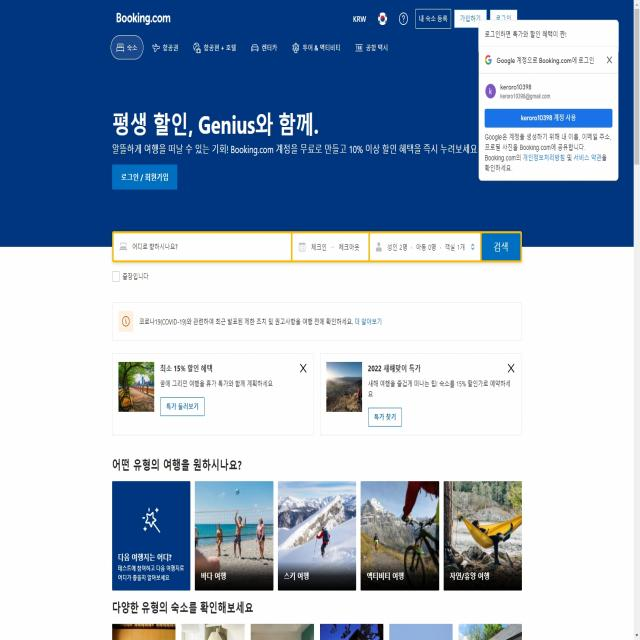menu-bar: (107, 29, 394, 63), (346, 4, 522, 32)
search: (110, 226, 522, 265)
